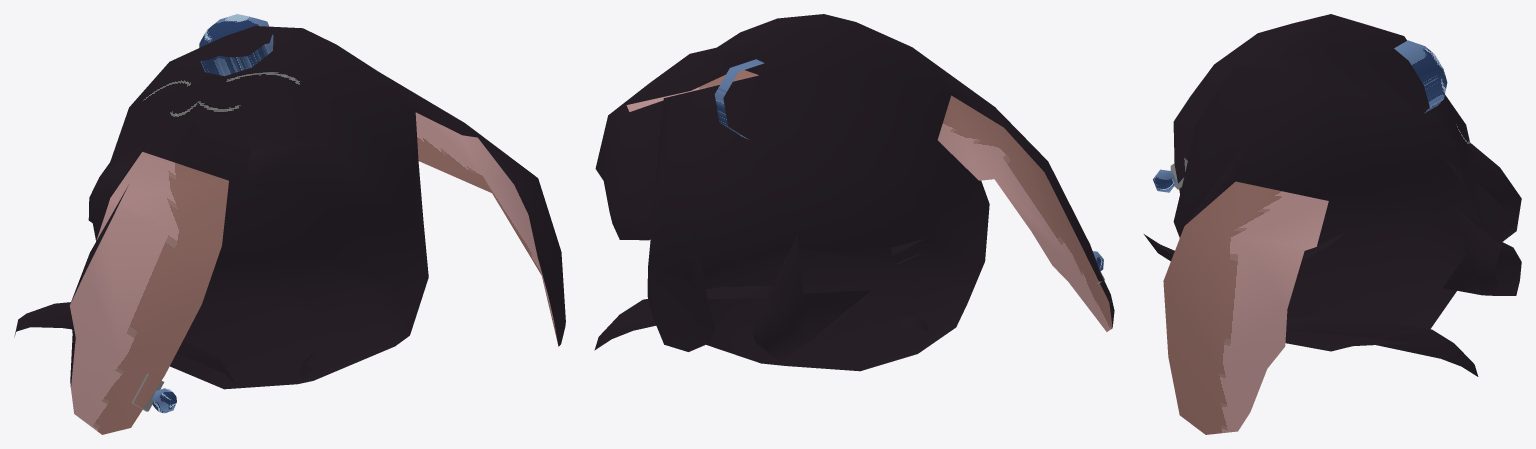
Rendered from ps2_save-icons_xxxholic.glb.
3 renders of one model, left to right at view 1: azimuth 30°, elevation 25°; view 2: azimuth 150°, elevation 25°; view 3: azimuth 270°, elevation 25°, orthographic. The views are drawn at different scales.
Visible parts, largest first — view 1: static.ico; view 2: static.ico; view 3: static.ico.
Boxes of the visible parts, x1=… form: static.ico: x1=14, y1=14, x2=565, y2=434; static.ico: x1=594, y1=14, x2=1114, y2=371; static.ico: x1=1144, y1=14, x2=1521, y2=434.
Bounding box in the file's own units: 2.21 × 1.36 × 1.56.
Materials: 1 (1 with a texture image).
